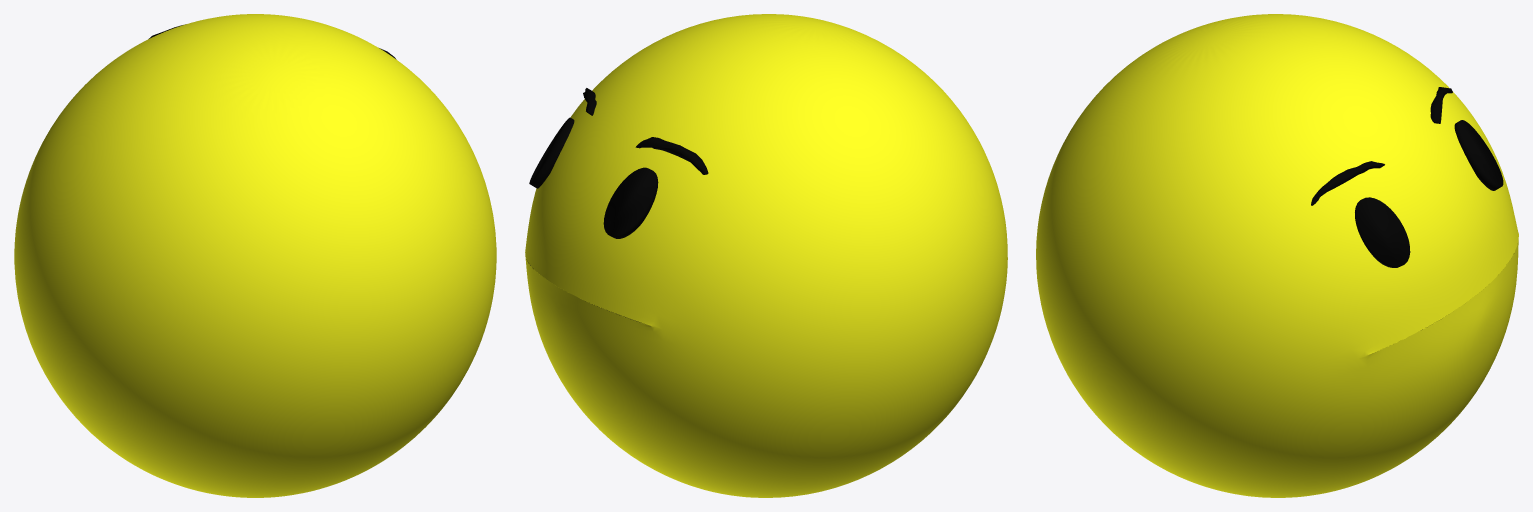
Rendered from [91] lookLeft.obj.
3 views of the same model, side by side, from view 1: azimuth 30°, elevation 25°; view 2: azimuth 150°, elevation 25°; view 3: azimuth 270°, elevation 25° (orthographic).
Visible parts, largest first — view 1: head_Sphere.002; view 2: head_Sphere.002, rightEye_Cylinder.001, leftEye_Cylinder.002, rightEyebrow_Cylinder.005; view 3: head_Sphere.002, leftEye_Cylinder.002, rightEye_Cylinder.001, leftEyebrow_Cylinder.003.
Part boxes in pixels (<box>): head_Sphere.002: <box>14,14,496,497</box>; head_Sphere.002: <box>525,14,1007,497</box>; rightEye_Cylinder.001: <box>603,167,658,238</box>; leftEye_Cylinder.002: <box>529,117,574,188</box>; rightEyebrow_Cylinder.005: <box>635,137,708,174</box>; head_Sphere.002: <box>1036,14,1518,497</box>; leftEye_Cylinder.002: <box>1355,197,1410,267</box>; rightEye_Cylinder.001: <box>1454,120,1503,190</box>; leftEyebrow_Cylinder.003: <box>1311,161,1384,205</box>.
Bounding box in the file's own units: 3.65 × 3.67 × 3.66.
